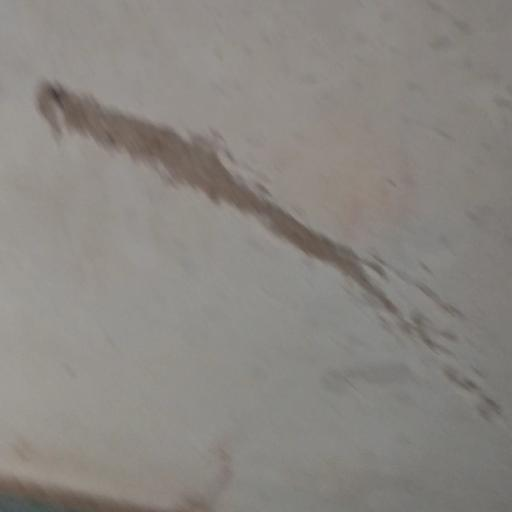peeling: (26, 56, 504, 427)
